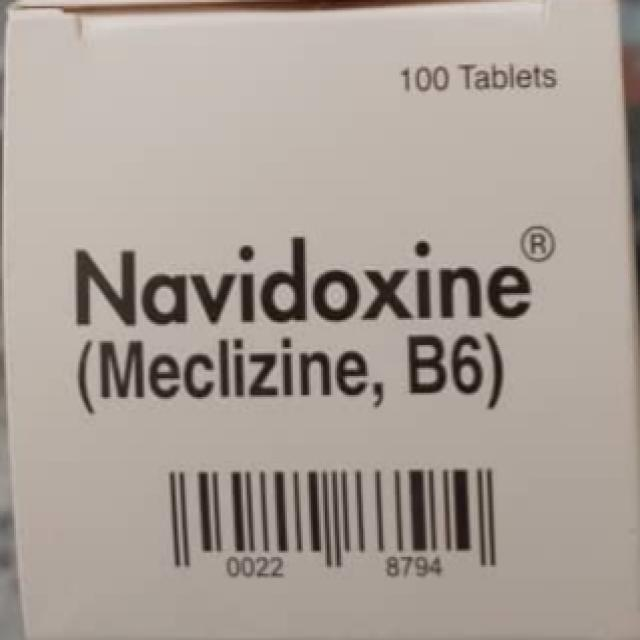drug-name: (70, 236, 530, 324)
